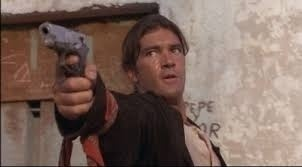pistol: (34, 28, 95, 79)
